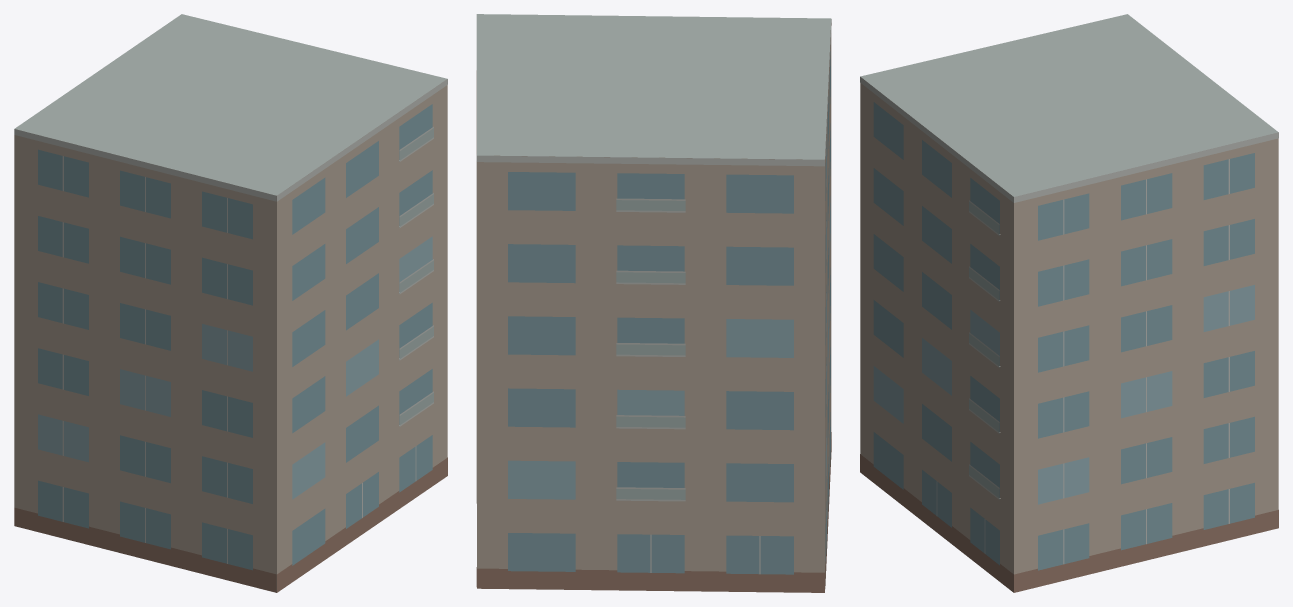
File: survey-upis-32885942.glb
The picture shows the model from 3 angles, left to right: view 1: azimuth 30°, elevation 25°; view 2: azimuth 150°, elevation 25°; view 3: azimuth 270°, elevation 25°; orthographic projection. The views are drawn at different scales.
Visible parts, largest first — view 1: survey-upis-32885942.tmp; view 2: survey-upis-32885942.tmp; view 3: survey-upis-32885942.tmp.
Part boxes in pixels (bbox=[...]): survey-upis-32885942.tmp: bbox=[14, 14, 447, 592]; survey-upis-32885942.tmp: bbox=[476, 14, 831, 592]; survey-upis-32885942.tmp: bbox=[860, 14, 1278, 592].
Size of the model in its own units: 15.98 by 16.1 by 15.44.
